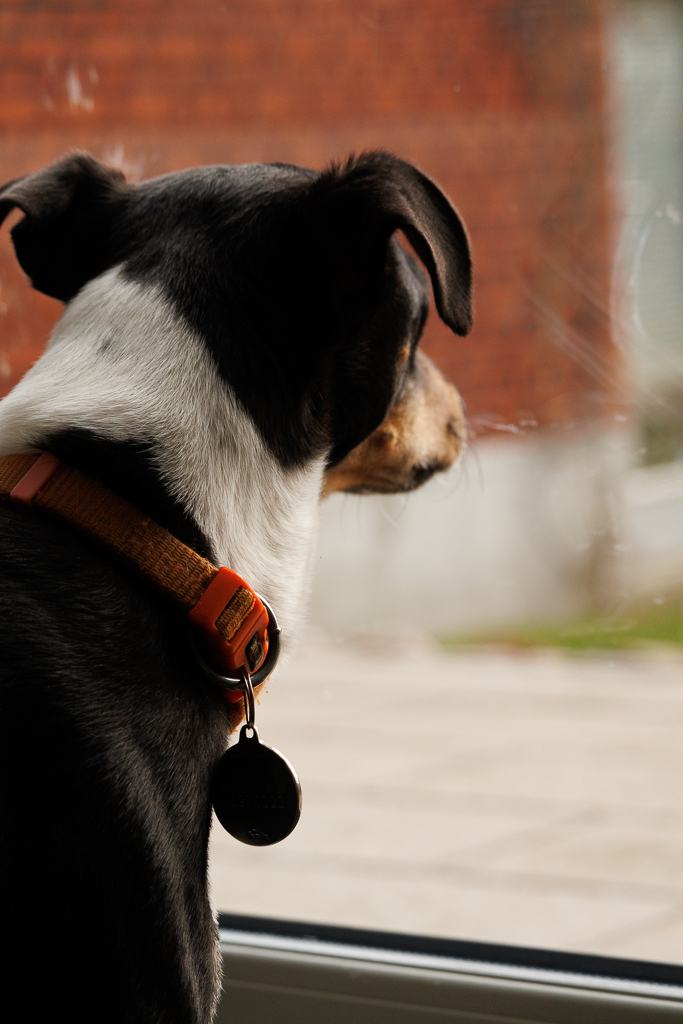Dog: (0, 140, 513, 1024)
